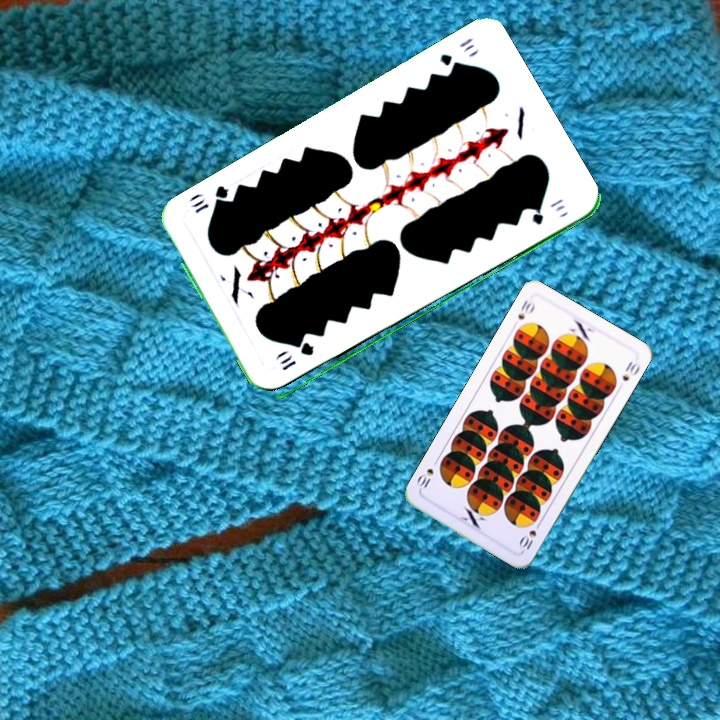G10: (435, 34, 477, 74), (278, 341, 317, 373)
S10: (515, 517, 544, 554), (514, 296, 538, 322)
